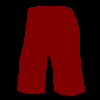bermuda: (16, 6, 85, 96)
